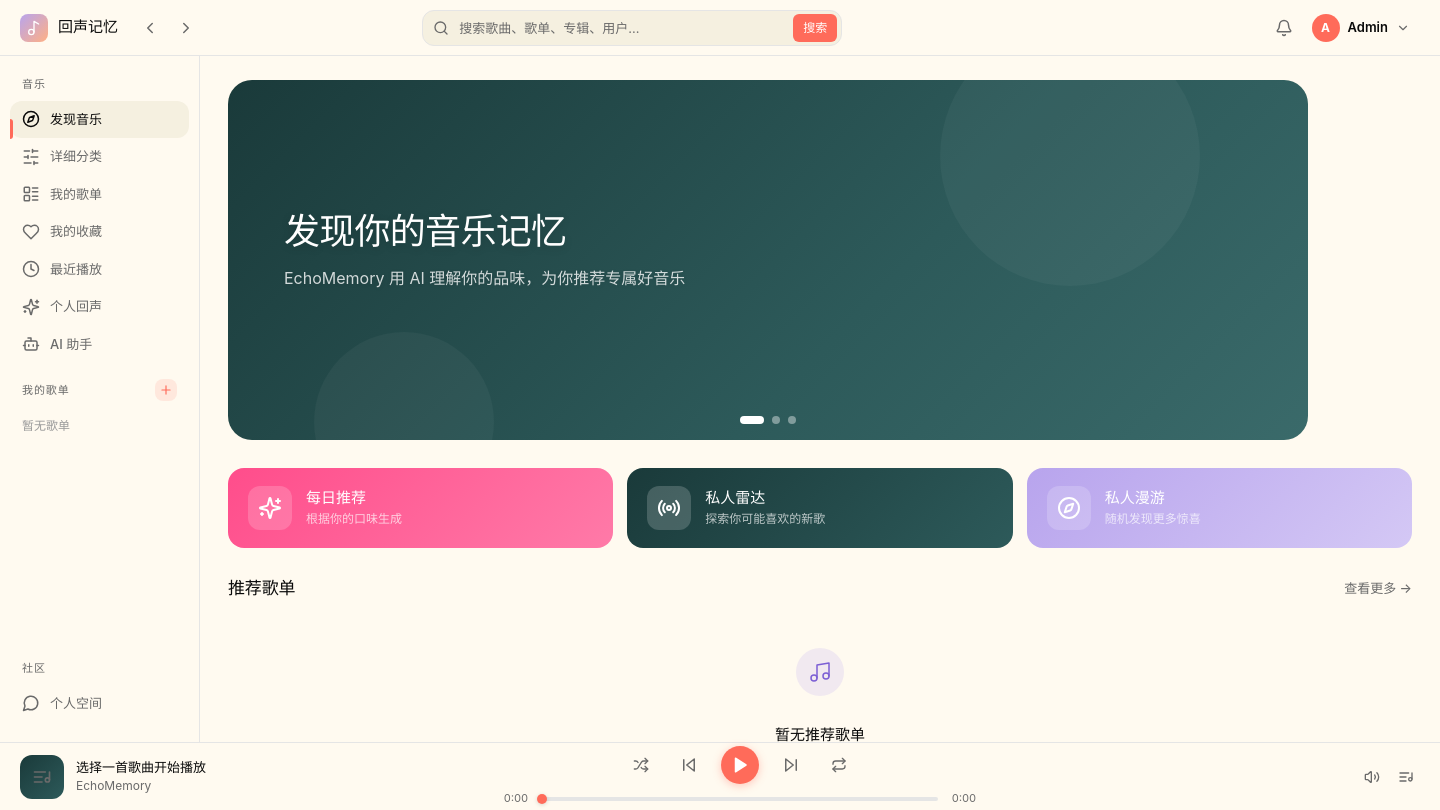
Test case: App › lets admin users navigate to admin from avatar menu
Click the text "Admin" at (1368, 28), box 1348,18 -> 1388,37
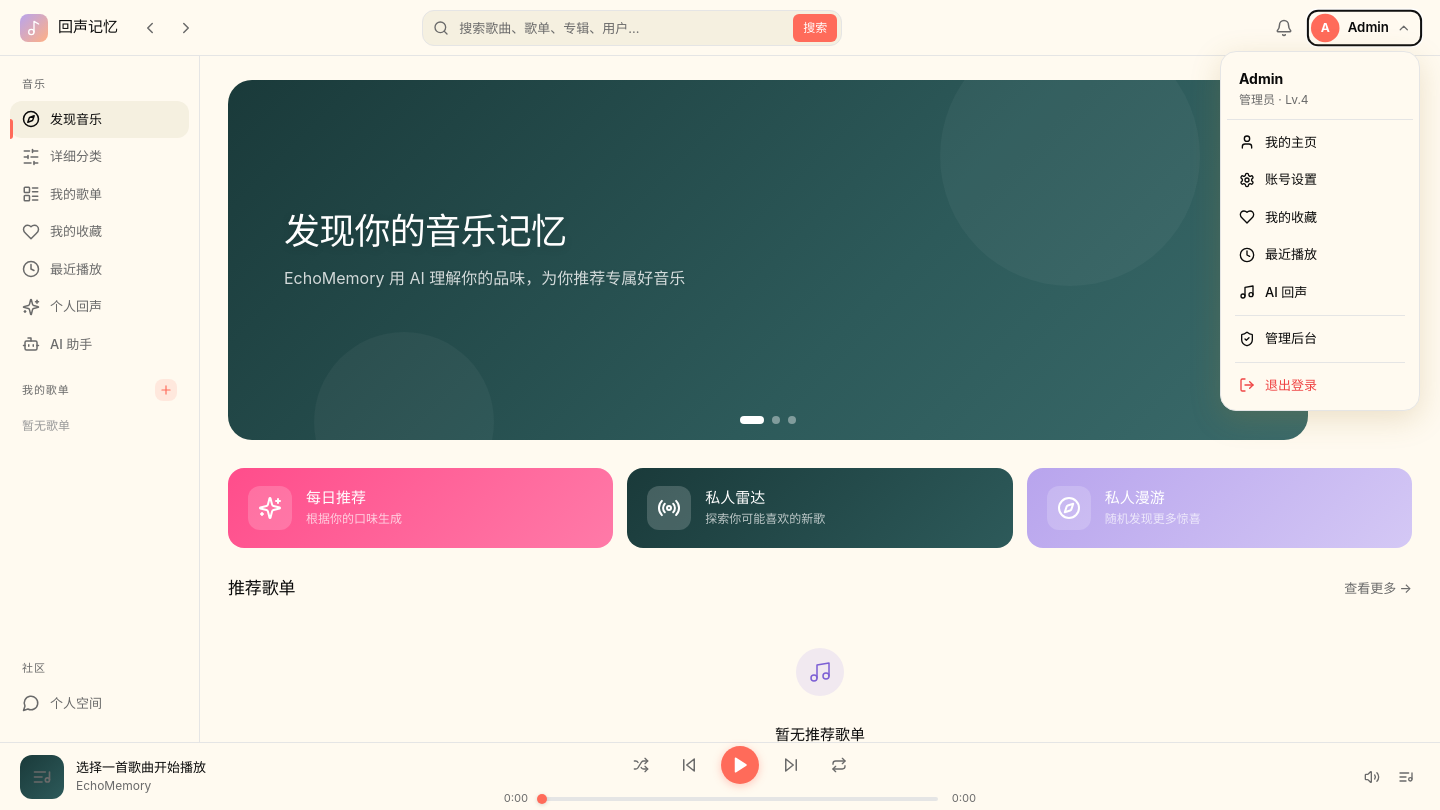
Result: the button "管理后台" is shown
Click the button "管理后台" at (1320, 339), box 1227,320 -> 1413,358
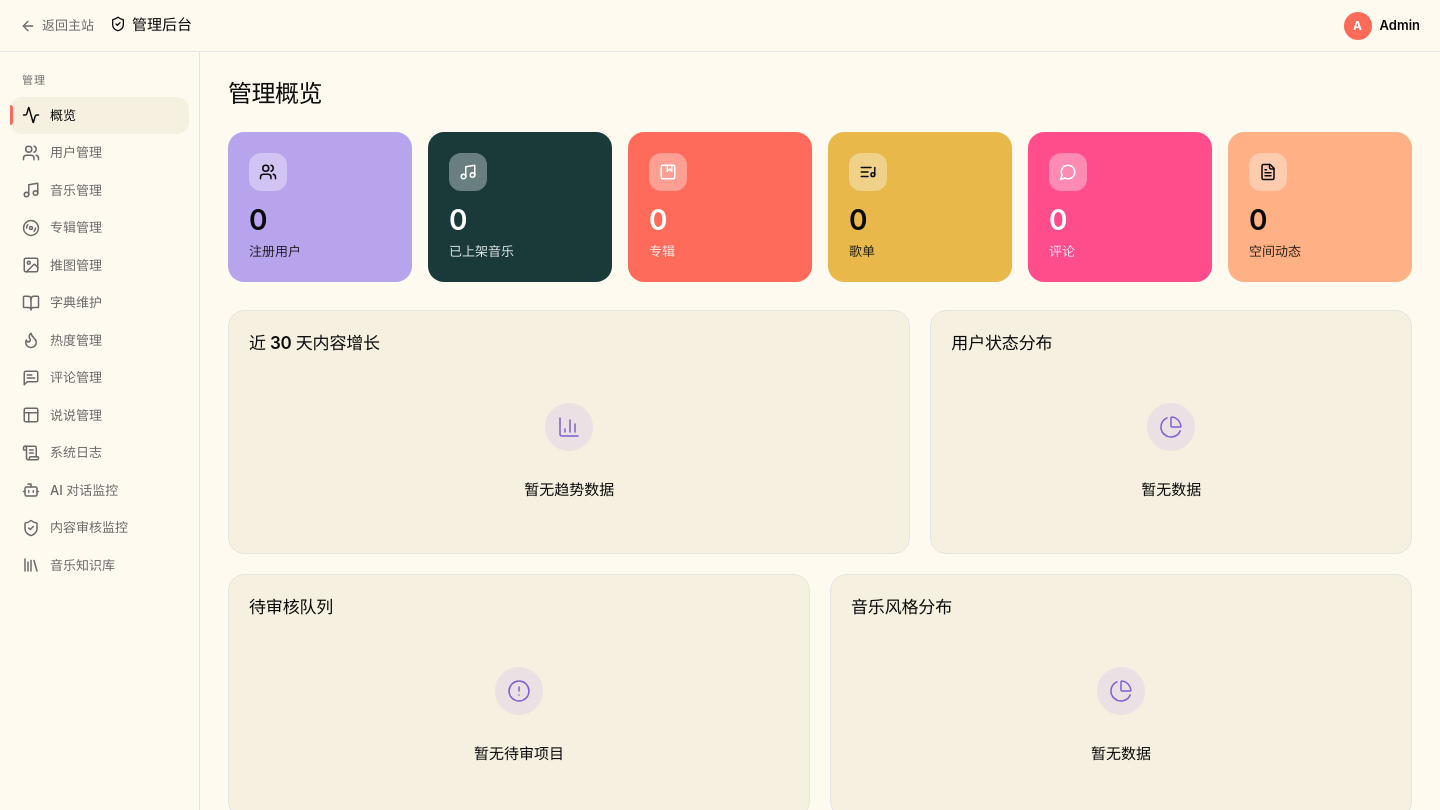
Result: the heading "管理概览" is shown at 228,79 -> 322,108
